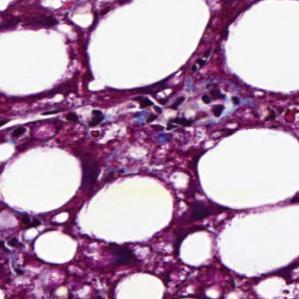inflammation: (130, 82, 241, 134)
